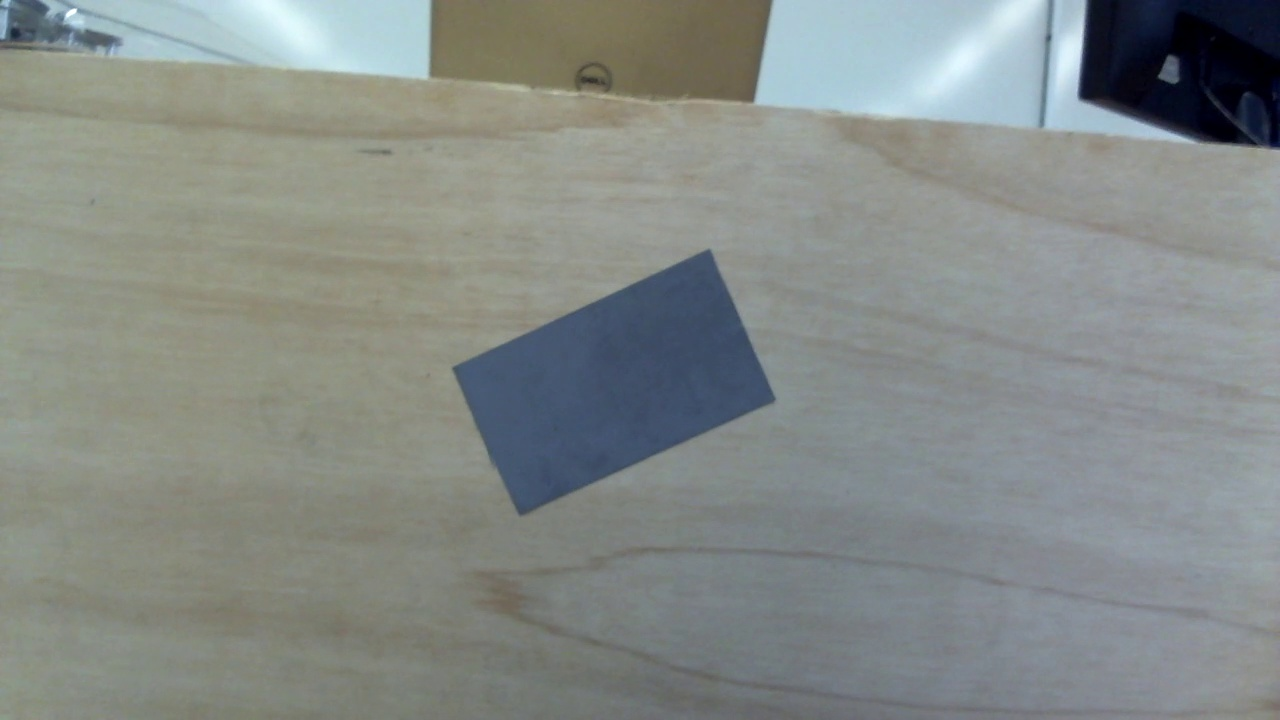Tape: (449, 248, 778, 517)
